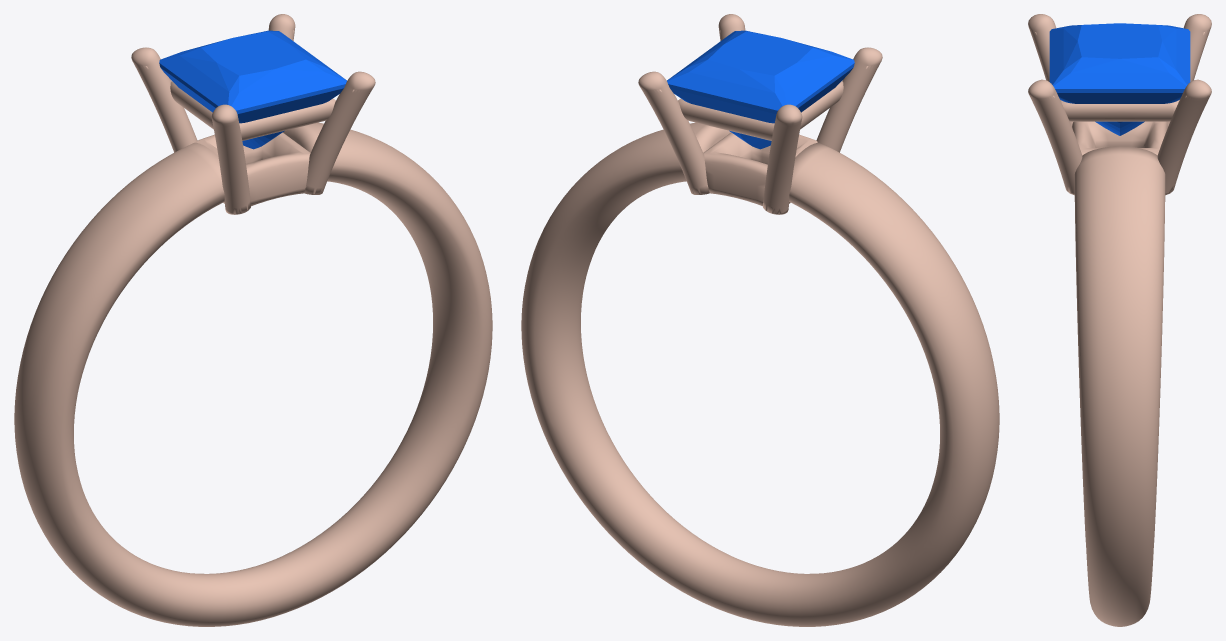
The model's file is bluesapphire-princess-rosegold-4prong-taperedband-solitaire.glb.
The picture shows the model from 3 angles, left to right: view 1: azimuth 30°, elevation 25°; view 2: azimuth 150°, elevation 25°; view 3: azimuth 270°, elevation 25°; orthographic projection.
Visible parts, largest first — view 1: metal, stone; view 2: metal, stone; view 3: metal, stone.
Boxes of the visible parts, box(x1,y1,x2,y2) form: metal: box(14, 14, 492, 626); stone: box(159, 30, 346, 149); metal: box(521, 14, 999, 626); stone: box(667, 30, 854, 149); metal: box(1028, 14, 1211, 626); stone: box(1049, 23, 1190, 135).
Bounding box in the file's own units: 20.5 × 23.85 × 7.08.
